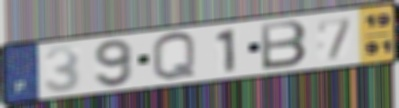1: (214, 26, 240, 74)
3: (42, 44, 83, 94)
7: (315, 16, 353, 61)
9: (92, 38, 135, 88)
B: (258, 18, 309, 72)
Q: (149, 31, 199, 84)
